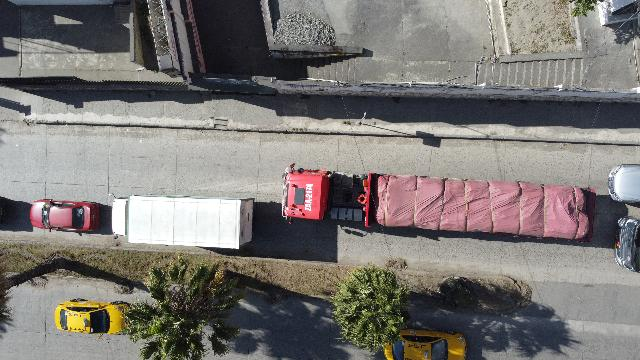Vehiculo: (55, 298, 131, 334), (383, 329, 467, 360), (30, 200, 99, 231), (608, 164, 640, 202)
